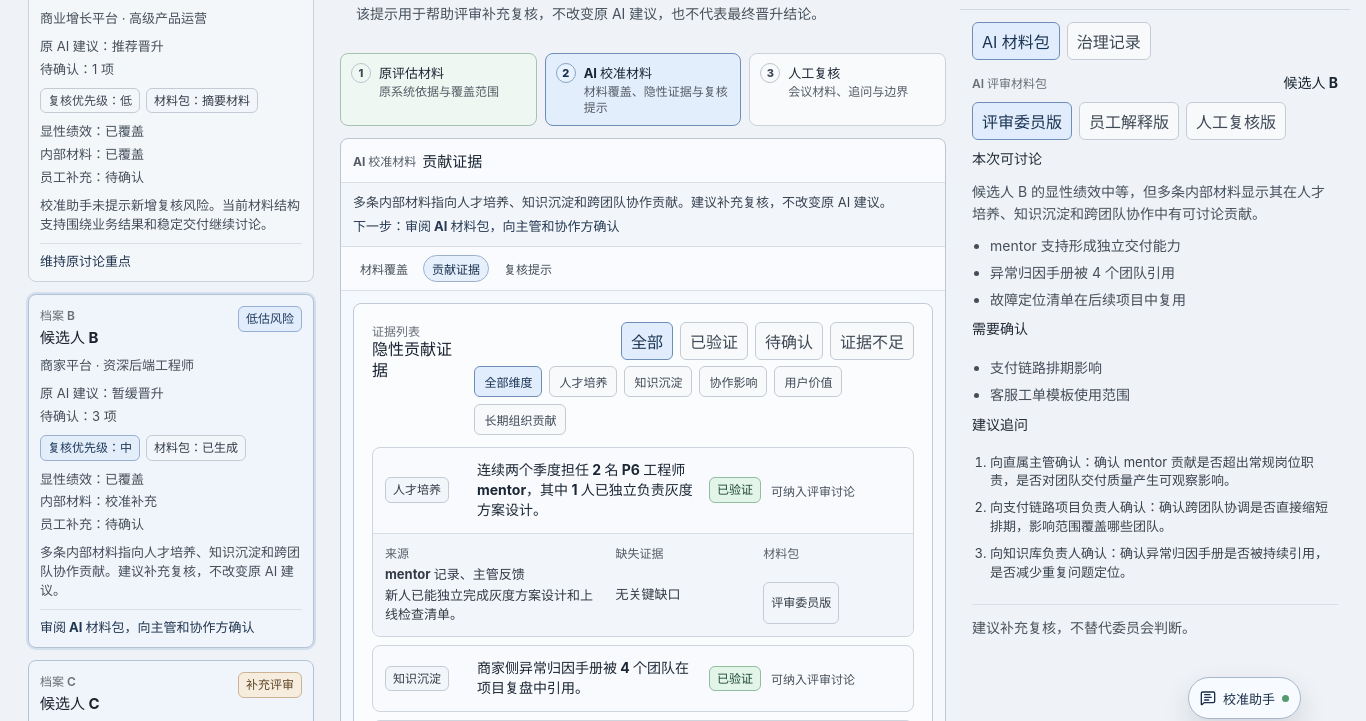
Scenario: promotion assessment center AI calibration module › supports dimension filtering in evidence workpaper
(page scrolled)
Click the button "协作影响". click: x=733, y=381
box: [699,366,767,397]
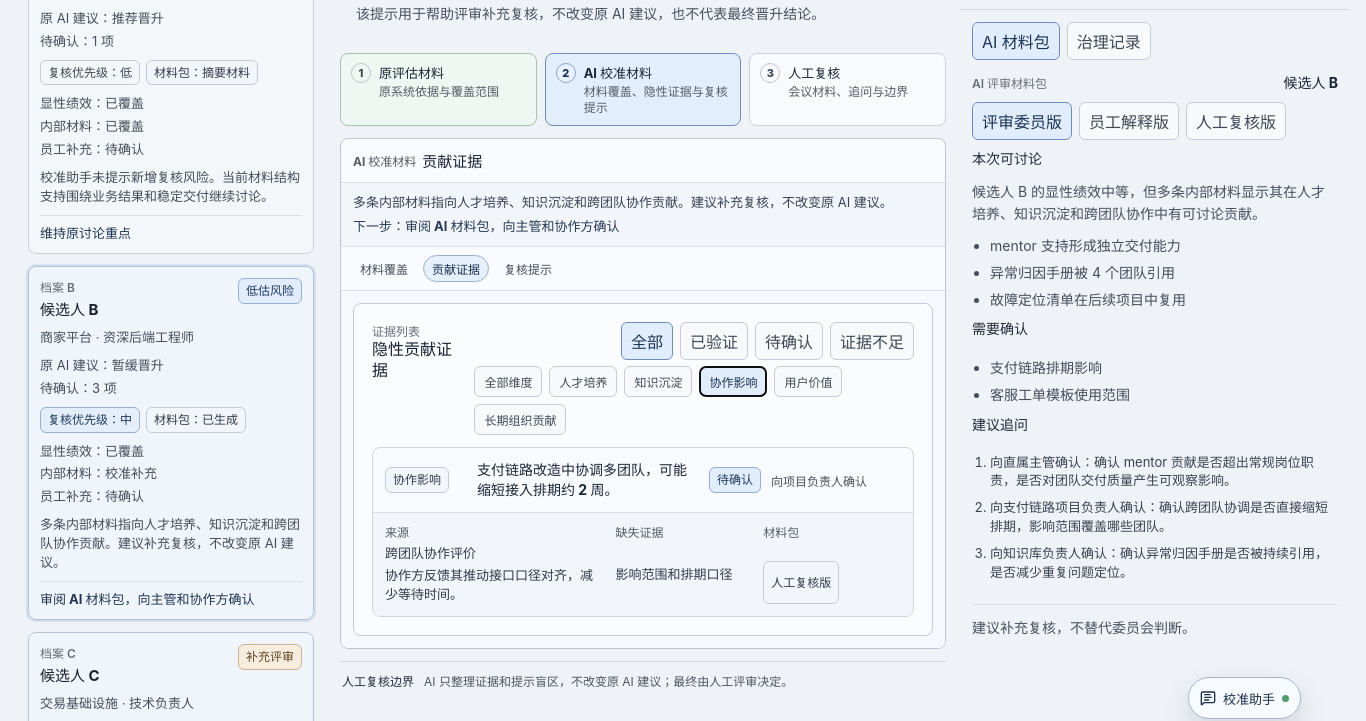
Expected: the text "跨团队协作评价" is shown, [385,545,476,561]
Click the button "已验证". click: x=714, y=341
box: [680,322,748,360]
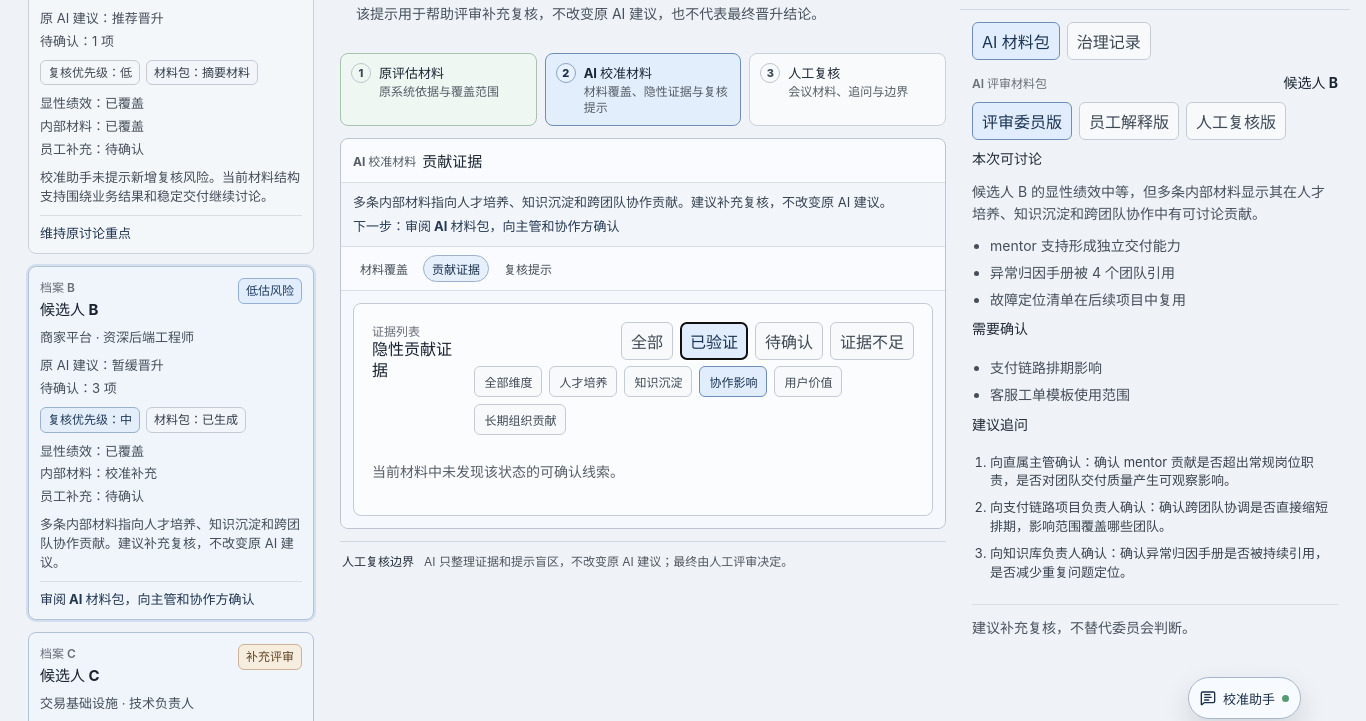
Expected: the text "当前材料中未发现该状态的可确认线索。" is shown, [372,463,624,480]
